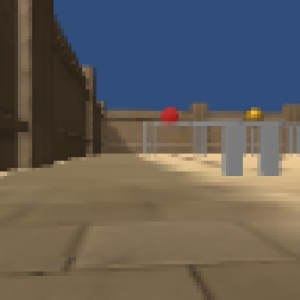badGoal: (161, 106, 180, 123)
goodGoalMulti: (243, 107, 265, 124)
wall: (220, 123, 244, 176), (260, 124, 282, 177), (192, 122, 209, 157), (143, 120, 157, 155), (286, 122, 300, 154)
